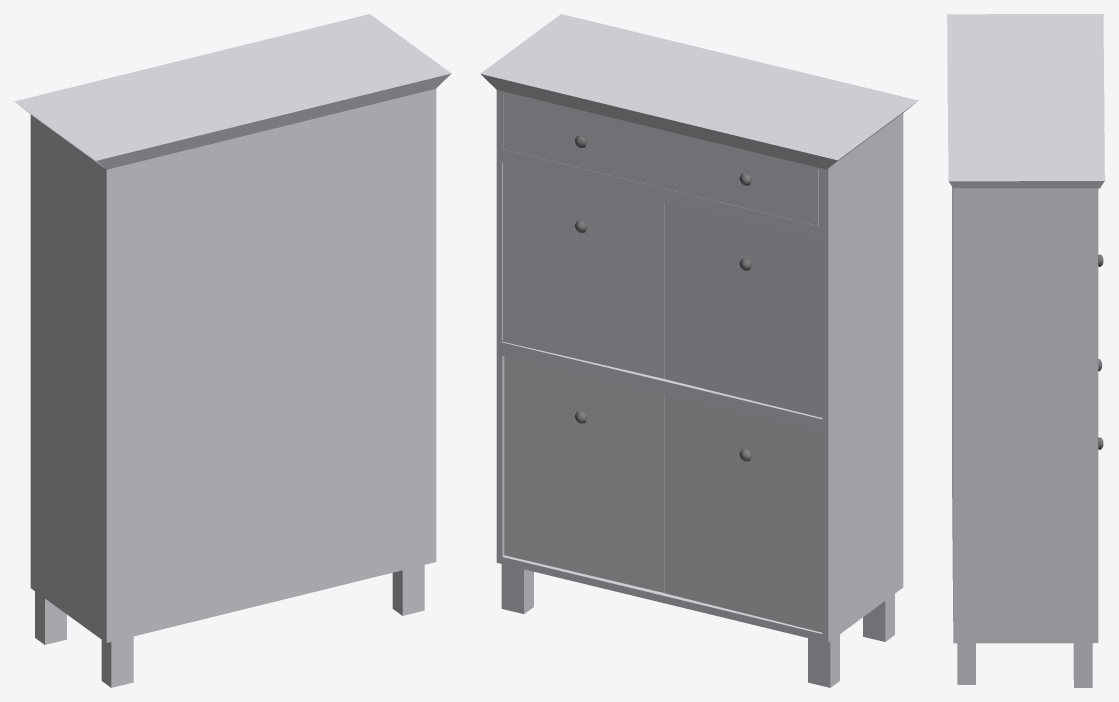
Rendered from frl_apartment_wall_cabinet_03.glb.
3 renders of one model, left to right at view 1: azimuth 30°, elevation 25°; view 2: azimuth 150°, elevation 25°; view 3: azimuth 270°, elevation 25°, orthographic. The views are drawn at different scales.
Parts seen in each view (by area): view 1: frl_apartment_wall-cabinet_03_body.003; view 2: frl_apartment_wall-cabinet_03_body.003; view 3: frl_apartment_wall-cabinet_03_body.003.
Boxes of the visible parts, x1,y1,x2,y2 form: frl_apartment_wall-cabinet_03_body.003: (14, 14, 451, 687); frl_apartment_wall-cabinet_03_body.003: (480, 14, 918, 687); frl_apartment_wall-cabinet_03_body.003: (947, 14, 1104, 687).
Bounding box in the file's own units: 0.8797 × 1.26 × 0.3507.
Materials: 1 (1 with a texture image).
